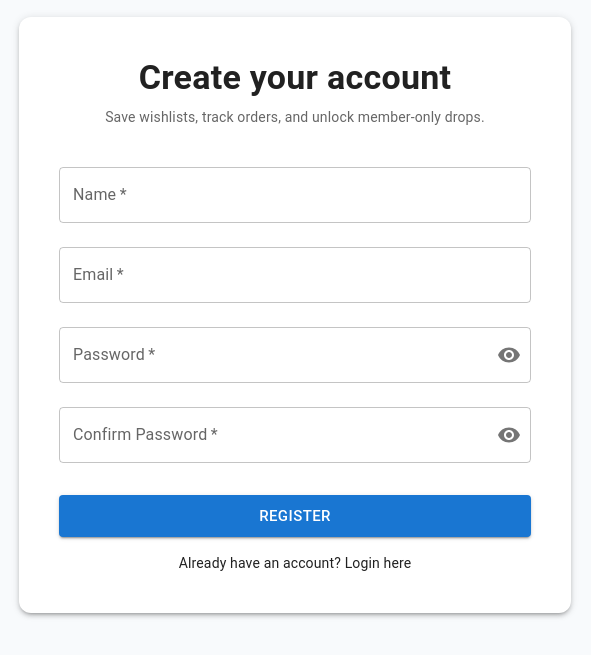
Scenario: <Register /> › renders concatenated validation errors from server
Type "Bob" into the field labelled "Name *" at (295, 195), box x1=59 y1=167 x2=531 y2=223
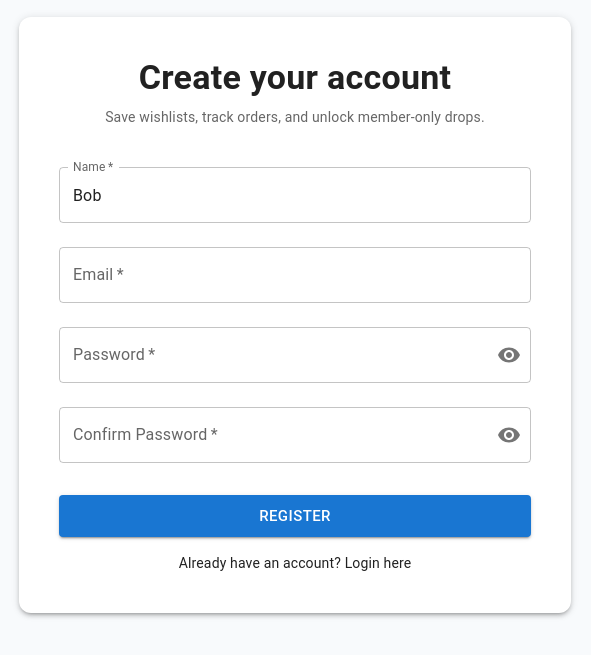
Type "b@c.com" into the field labelled "Email *" at (295, 275), box x1=59 y1=247 x2=531 y2=303
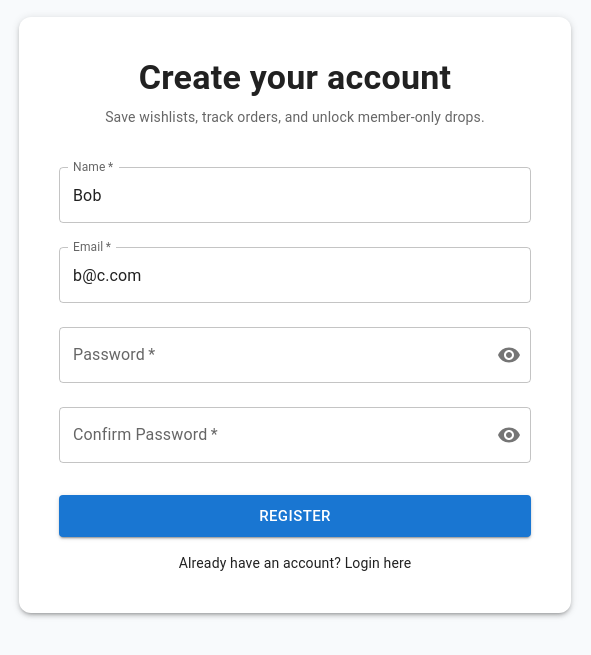
Type "pw" into the password field labelled "Password *" at (270, 355), box x1=59 y1=327 x2=481 y2=383
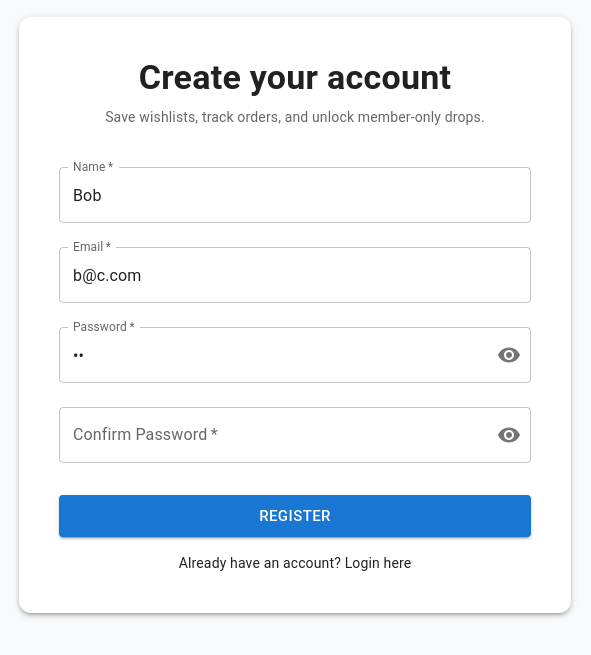
Type "pw" into the password field labelled "Confirm Password *" at (270, 435), box x1=59 y1=407 x2=481 y2=463
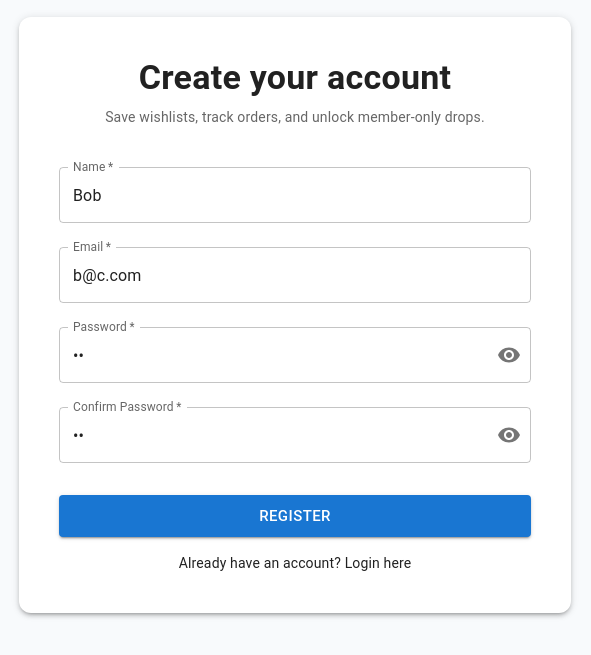
Click the button "Register" at (295, 516), box x1=59 y1=495 x2=531 y2=537
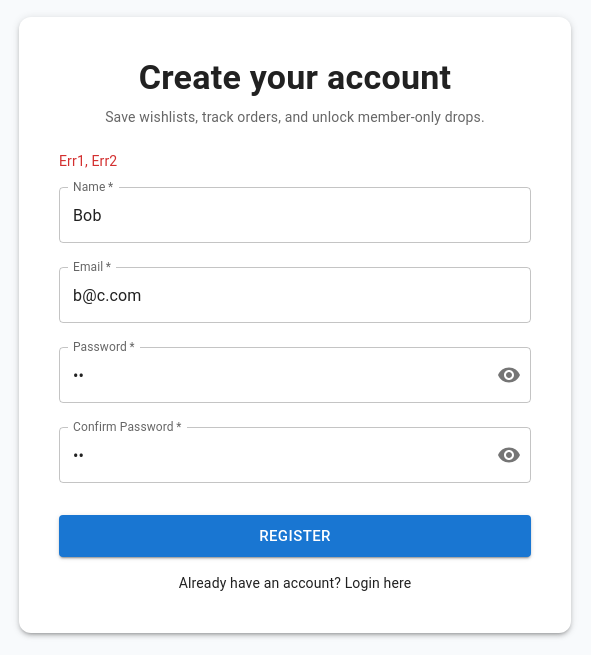
Now the text "Err1, Err2" is shown, box x1=59 y1=153 x2=117 y2=169
